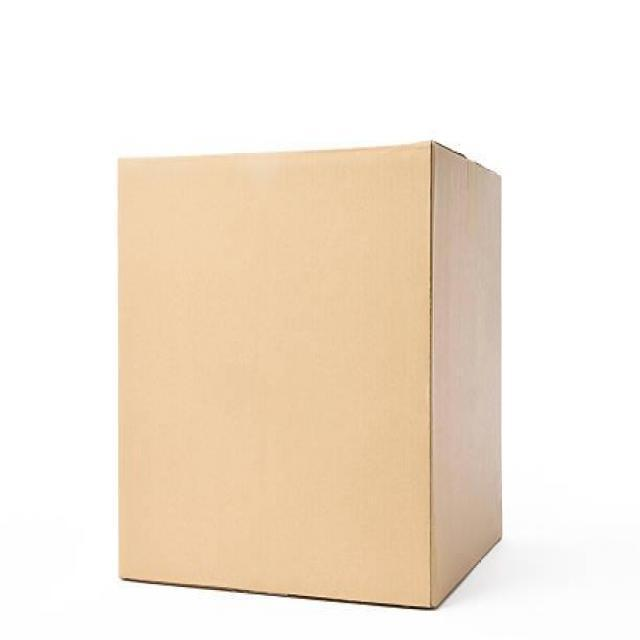box: (114, 132, 508, 614)
